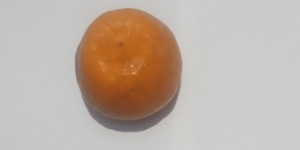BAD: (76, 9, 182, 118)
